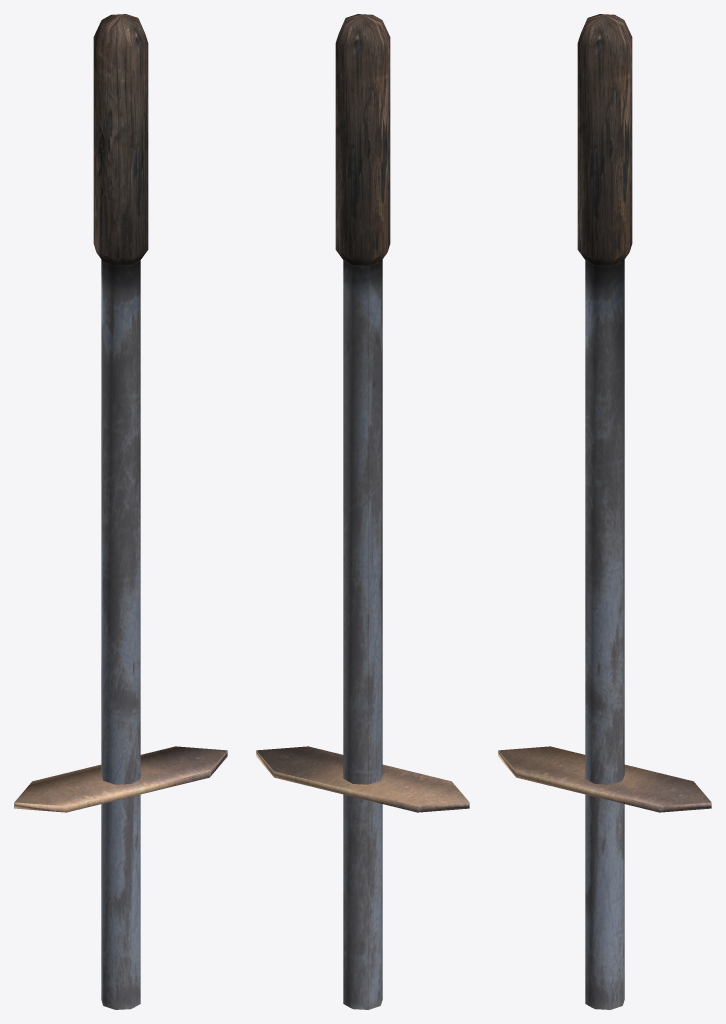
Rendered from lever.fbx.
The picture shows the model from 3 angles, left to right: view 1: azimuth 30°, elevation 25°; view 2: azimuth 150°, elevation 25°; view 3: azimuth 330°, elevation 25°; orthographic projection.
Visible parts, largest first — view 1: lever; view 2: lever; view 3: lever.
Part boxes in pixels (box(x1,y1,x2,y2)): lever: box(14, 14, 227, 1009); lever: box(256, 14, 469, 1009); lever: box(498, 14, 711, 1009).
Size of the model in its own units: 18 by 79.58 by 5.
